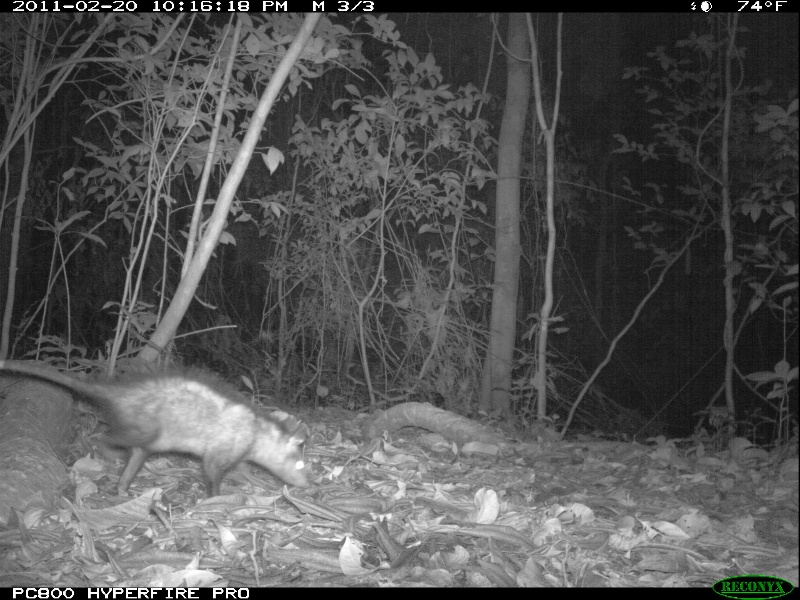opossum: (1, 358, 308, 496)
